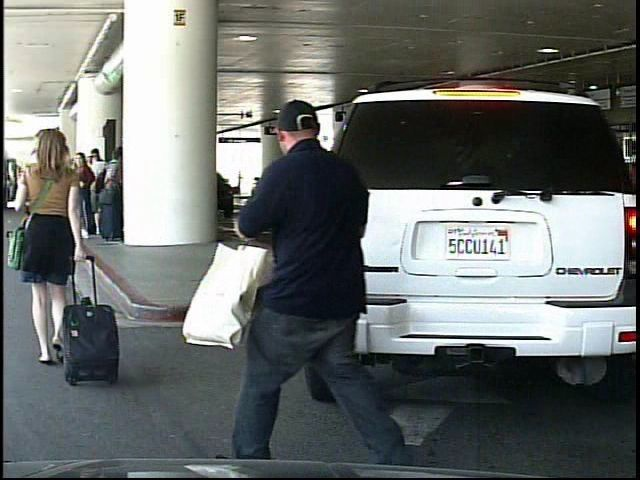person: (240, 89, 401, 467), (5, 125, 99, 396)
